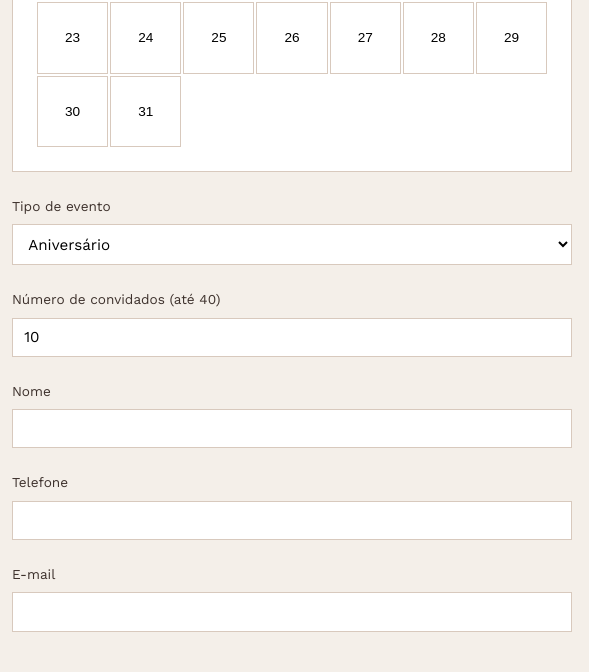
Scenario: ReservaEventoWizard › não permite numConvidados sair do intervalo válido (1 a 40) via o campo numérico
(page scrolled)
Replace the text in the number field labelled "Número de convidados (até 40)" with "0". click: (292, 337)
box: [12, 318, 572, 357]
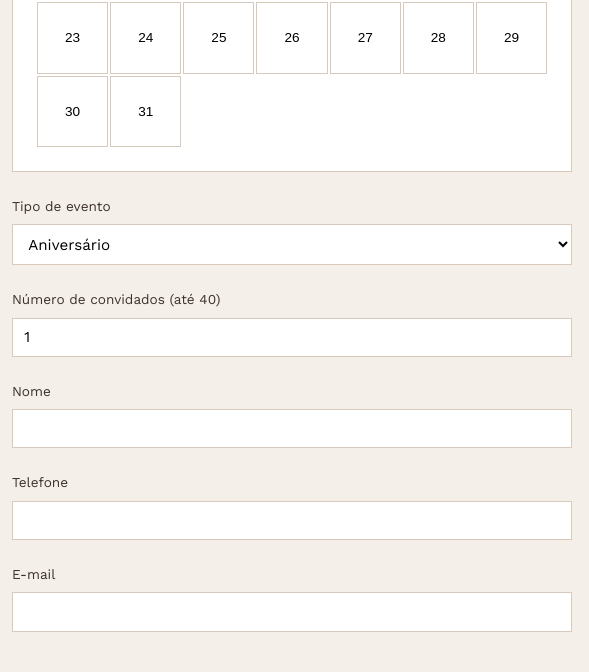
Expected: the number field labelled "Número de convidados (até 40)" holds "1"
Clear the number field labelled "Número de convidados (até 40)". click: (292, 337)
box: [12, 318, 572, 357]
Expected: the number field labelled "Número de convidados (até 40)" holds "1"
Replace the text in the number field labelled "Número de convidados (até 40)" with "999". click: (292, 337)
box: [12, 318, 572, 357]
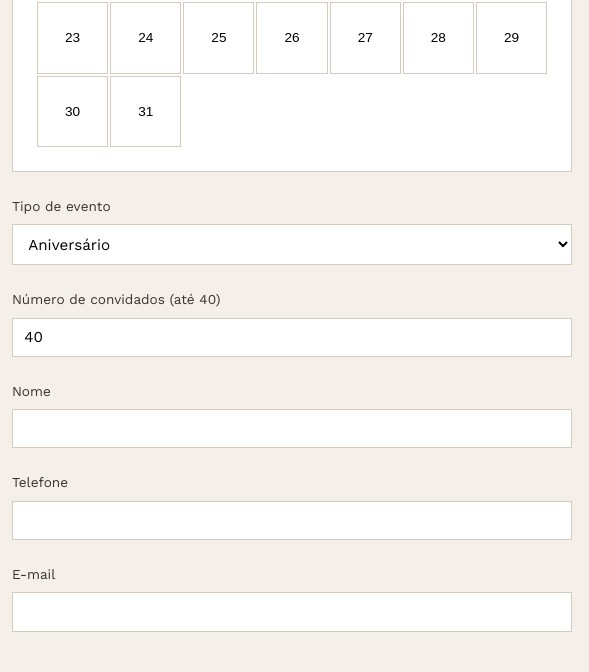
Expected: the number field labelled "Número de convidados (até 40)" holds "40", [12, 318, 572, 357]
